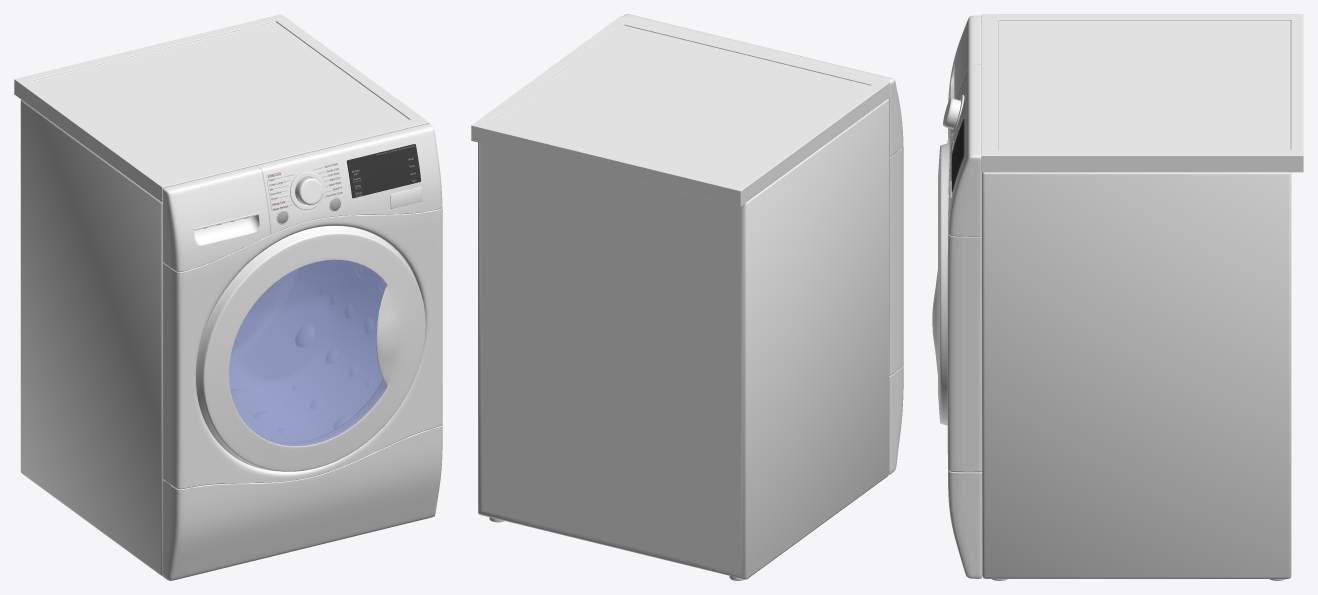
The model's file is bosh.glb.
3 views of the same model, side by side, from view 1: azimuth 30°, elevation 25°; view 2: azimuth 150°, elevation 25°; view 3: azimuth 270°, elevation 25° (orthographic). The views are drawn at different scales.
Parts seen in each view (by area): view 1: Cube.001, Plane, Cube.002, Puerta.002, Puerta, Cube.008, Cube.009, Sphere, Cylinder.002; view 2: Plane, Cube.002, Cube.001; view 3: Plane, Cube.002, Cube.001, Puerta, Cube.009, Cylinder.002.
Part boxes in pixels (left/top/right/bottom): Cube.001: left=162, top=124, right=442, bottom=580; Plane: left=20, top=100, right=162, bottom=576; Cube.002: left=14, top=14, right=429, bottom=202; Puerta.002: left=229, top=260, right=386, bottom=446; Puerta: left=196, top=226, right=425, bottom=471; Cube.008: left=229, top=260, right=385, bottom=442; Cube.009: left=346, top=144, right=420, bottom=198; Sphere: left=231, top=260, right=384, bottom=442; Cylinder.002: left=290, top=171, right=323, bottom=209; Plane: left=478, top=98, right=888, bottom=579; Cube.002: left=471, top=16, right=890, bottom=206; Cube.001: left=622, top=14, right=903, bottom=474; Plane: left=982, top=172, right=1291, bottom=578; Cube.002: left=981, top=14, right=1303, bottom=172; Cube.001: left=947, top=15, right=981, bottom=578; Puerta: left=932, top=143, right=949, bottom=425; Cube.009: left=951, top=119, right=964, bottom=191; Cylinder.002: left=943, top=95, right=964, bottom=135.
Size of the model in its own units: 490 by 692 by 543.
12 materials, 2 textured.
